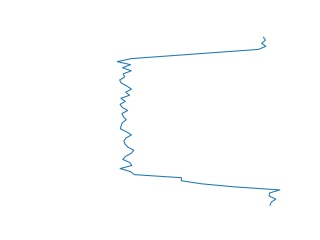distributaryChannelFill: (113, 39, 284, 206)
